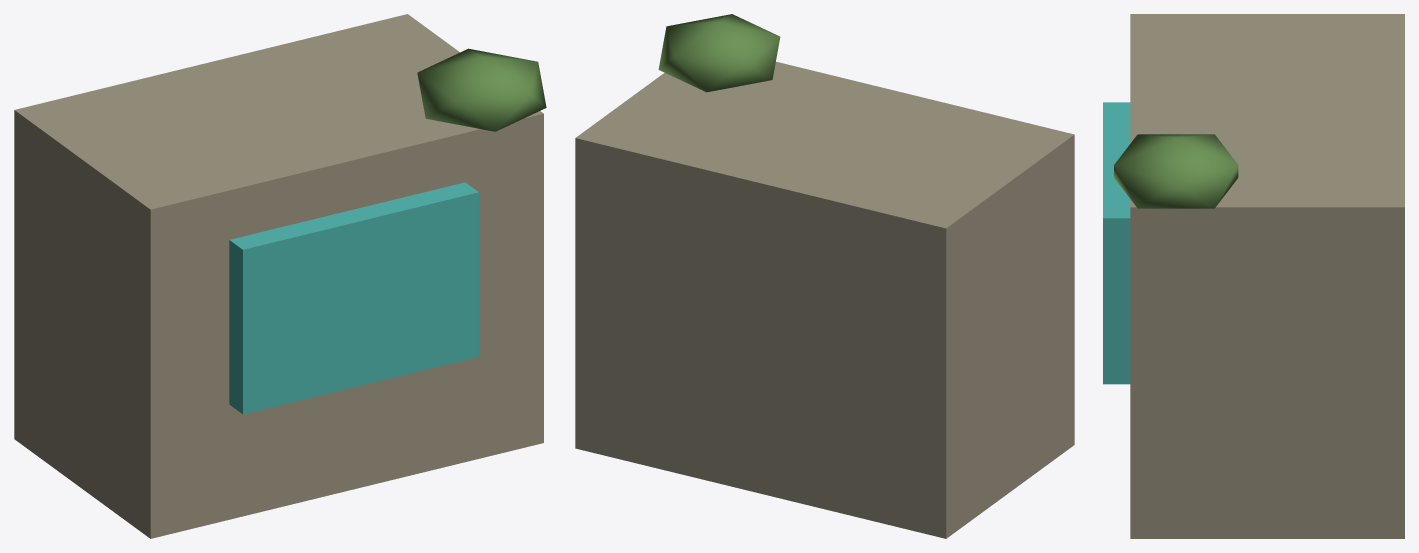
The model's file is temple_stone.fbx.
The picture shows the model from 3 angles, left to right: view 1: azimuth 30°, elevation 25°; view 2: azimuth 150°, elevation 25°; view 3: azimuth 270°, elevation 25°; orthographic projection. The views are drawn at different scales.
Parts seen in each view (by area): view 1: temple_stone; view 2: temple_stone; view 3: temple_stone.
Part boxes in pixels (<box>): temple_stone: <box>14,14,546,538</box>; temple_stone: <box>575,14,1074,538</box>; temple_stone: <box>1103,14,1404,538</box>.
Bounding box in the file's own units: 0.5216 × 0.46 × 0.33.
